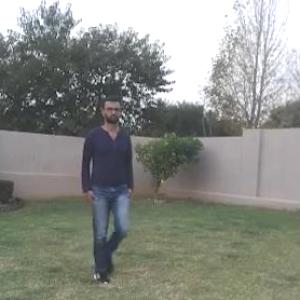follow: (82, 97, 133, 269)
